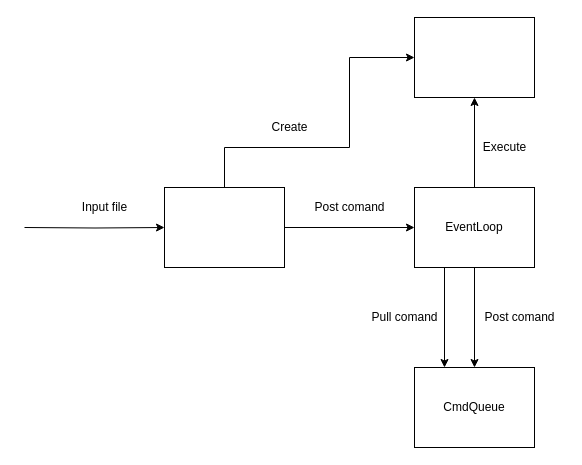
This 582x465 diagram has some shape labels left out. Each missing label, with the centre of its shape:
"Command" goes at point (474, 57).
"Parser" goes at point (224, 227).
